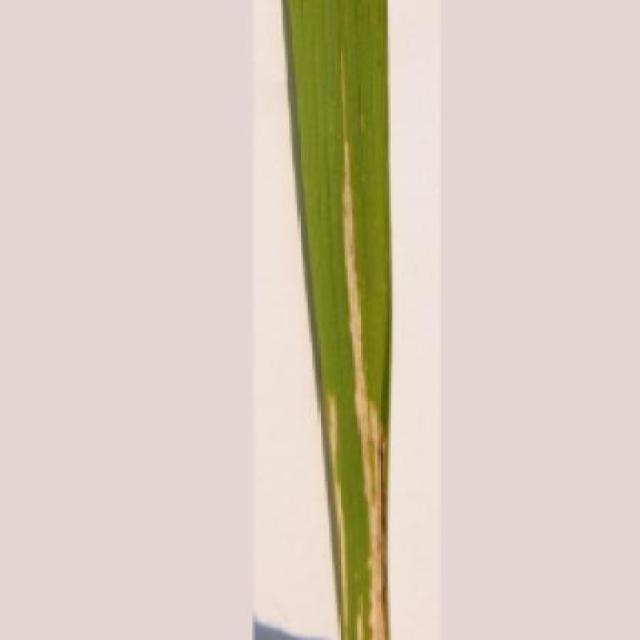Brown_Spot: (273, 0, 396, 640)
